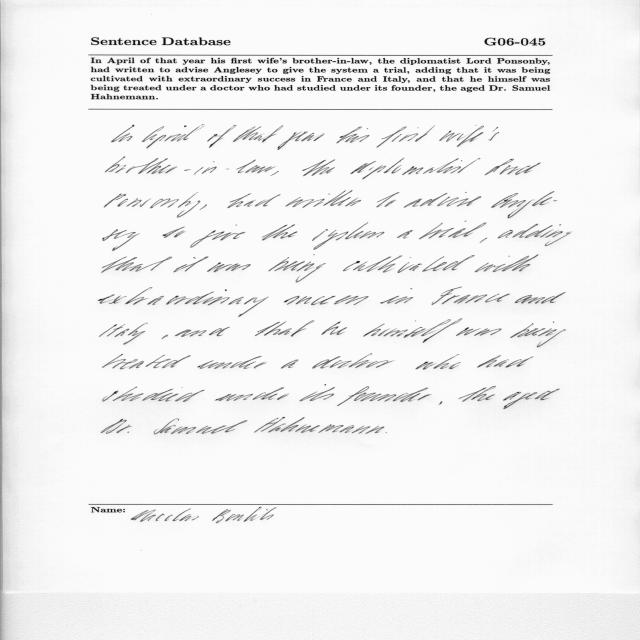word: (98, 287, 269, 317), (106, 157, 276, 175), (351, 158, 481, 180), (104, 192, 201, 218), (343, 255, 475, 273), (363, 319, 462, 343), (254, 417, 384, 434), (312, 222, 384, 250), (337, 387, 432, 407), (491, 191, 557, 218), (268, 255, 326, 283), (103, 386, 204, 402), (498, 224, 571, 246), (154, 418, 247, 435), (142, 125, 205, 149), (510, 322, 566, 348), (431, 287, 510, 305), (285, 190, 361, 208), (190, 224, 246, 248), (102, 354, 191, 369), (439, 125, 499, 147), (313, 353, 395, 369), (376, 126, 435, 148), (404, 192, 481, 208), (419, 221, 486, 239), (102, 256, 172, 273), (503, 389, 560, 409), (475, 255, 539, 272), (99, 323, 148, 345), (215, 387, 289, 401), (255, 320, 314, 337), (484, 159, 541, 176), (197, 356, 267, 369), (233, 125, 283, 143), (278, 131, 325, 150), (284, 296, 369, 306), (103, 229, 140, 251), (227, 193, 281, 208), (477, 355, 534, 368), (415, 354, 461, 370), (207, 125, 237, 148), (515, 292, 566, 304), (458, 386, 496, 402), (262, 224, 297, 241), (300, 385, 335, 402), (336, 127, 370, 144), (303, 160, 336, 177), (174, 257, 209, 273), (175, 327, 230, 337), (381, 288, 414, 304), (101, 419, 132, 434), (207, 263, 251, 273), (456, 327, 502, 336), (112, 125, 135, 142), (377, 192, 400, 208), (321, 321, 347, 335), (163, 227, 186, 238), (281, 360, 299, 369), (397, 230, 413, 238), (270, 171, 279, 176), (200, 204, 207, 210), (480, 237, 487, 243), (162, 335, 168, 339), (439, 401, 442, 405), (386, 432, 387, 433)
